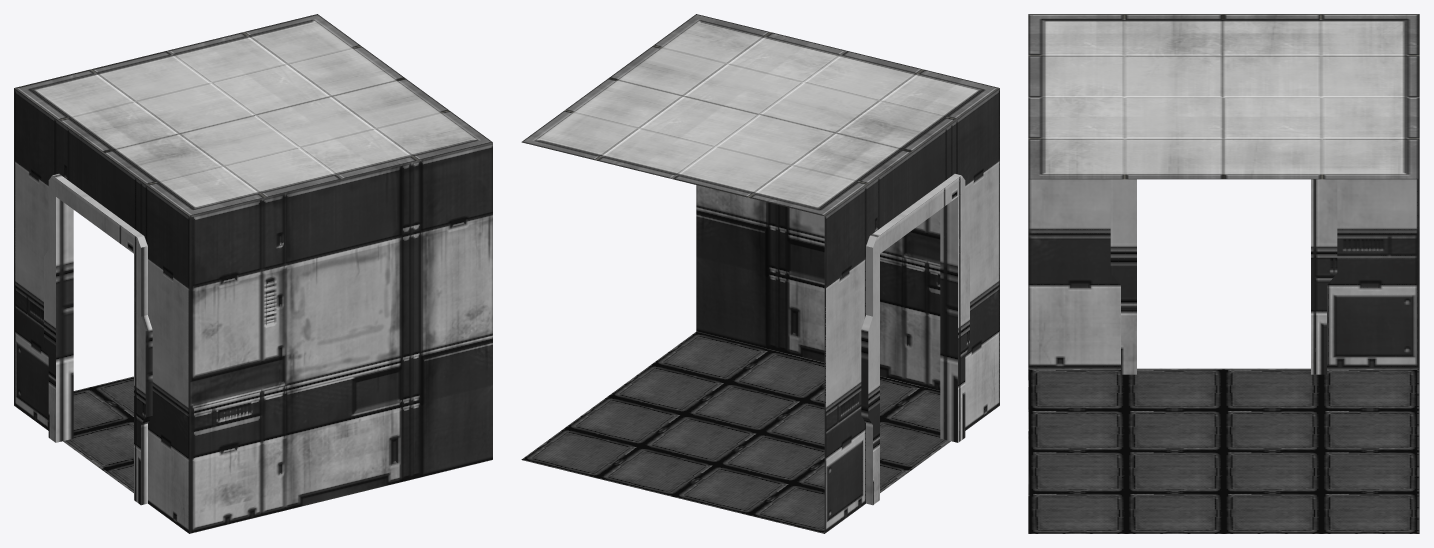
The model's file is RoomWallCornerDoor1.fbx.
3 views of the same model, side by side, from view 1: azimuth 30°, elevation 25°; view 2: azimuth 150°, elevation 25°; view 3: azimuth 270°, elevation 25° (orthographic). The views are drawn at different scales.
Visible parts, largest first — view 1: RoomWallCornerDoor1; view 2: RoomWallCornerDoor1; view 3: RoomWallCornerDoor1.
Boxes of the visible parts, bbox=[...] form: RoomWallCornerDoor1: bbox=[14, 14, 492, 533]; RoomWallCornerDoor1: bbox=[521, 14, 999, 533]; RoomWallCornerDoor1: bbox=[1028, 14, 1419, 533].
Size of the model in its own units: 5.11 by 5 by 5.
